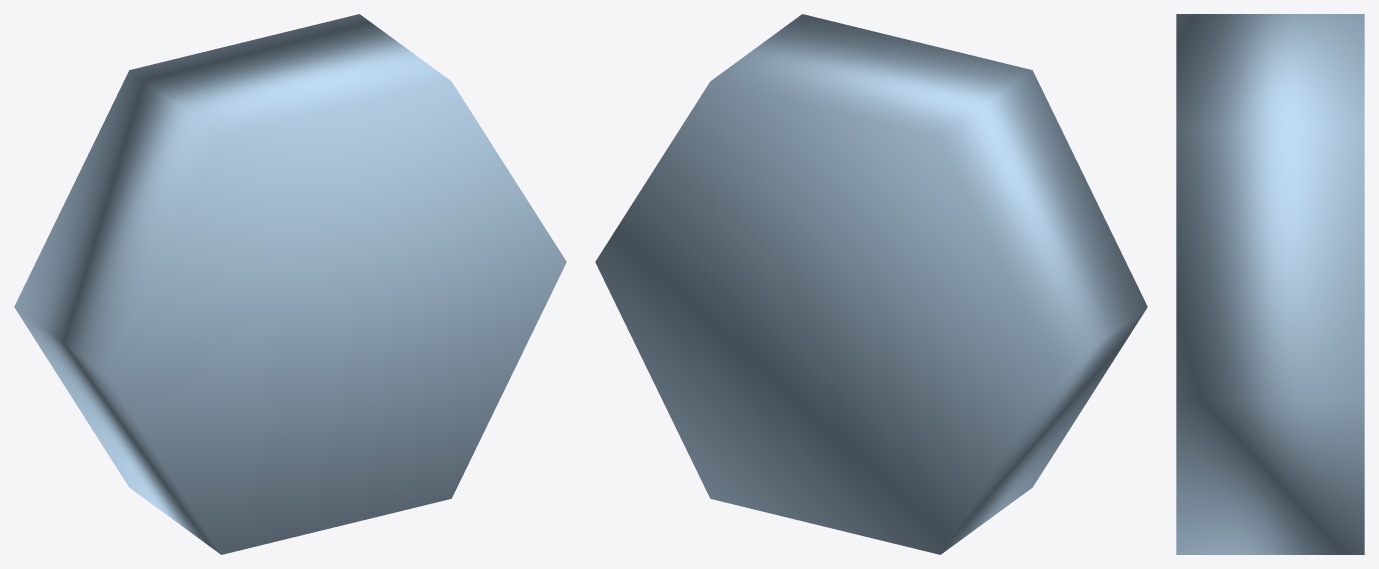
File: chrysoberyl-trilling.glb
3 renders of one model, left to right at view 1: azimuth 30°, elevation 25°; view 2: azimuth 150°, elevation 25°; view 3: azimuth 270°, elevation 25°, orthographic. The views are drawn at different scales.
Visible parts, largest first — view 1: chrysoberyl-trilling; view 2: chrysoberyl-trilling; view 3: chrysoberyl-trilling.
Part boxes in pixels (<box>): chrysoberyl-trilling: <box>14,14,566,554</box>; chrysoberyl-trilling: <box>595,14,1147,554</box>; chrysoberyl-trilling: <box>1176,14,1364,554</box>.
Size of the model in its own units: 1.15 by 1 by 0.4.
